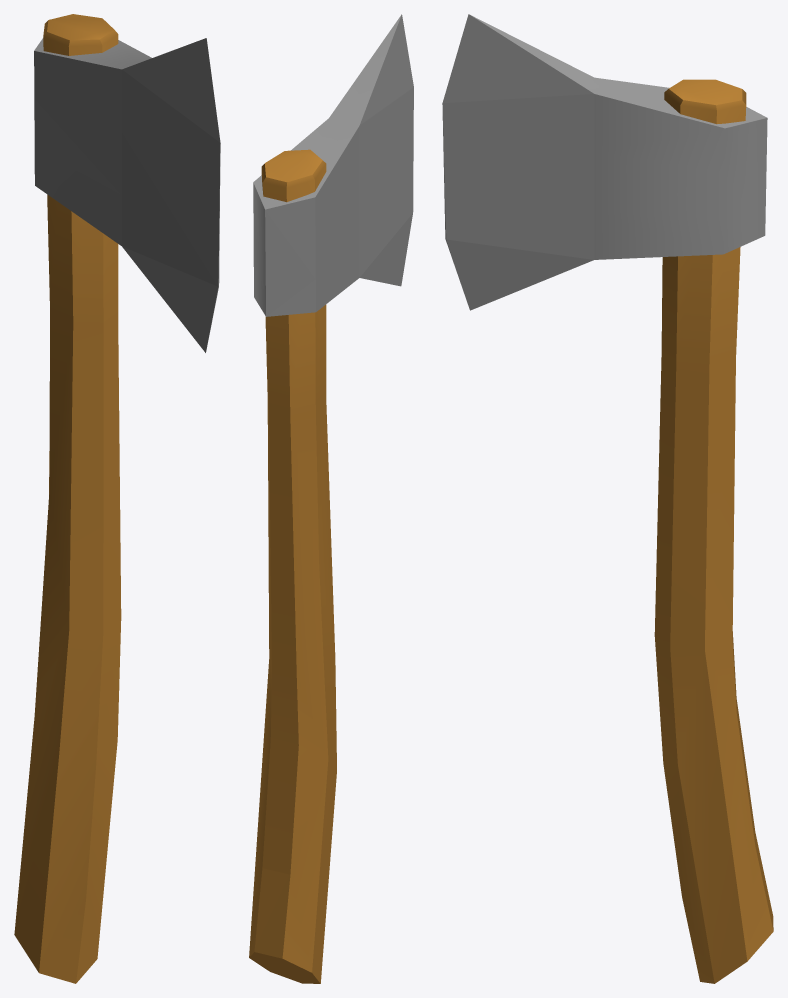
Rendered from Axe.fbx.
3 views of the same model, side by side, from view 1: azimuth 30°, elevation 25°; view 2: azimuth 150°, elevation 25°; view 3: azimuth 270°, elevation 25° (orthographic). The views are drawn at different scales.
Visible parts, largest first — view 1: Handle001, Axehead; view 2: Handle001, Axehead; view 3: Axehead, Handle001.
Part boxes in pixels (left/top/right/bottom): Handle001: left=14, top=14, right=121, bottom=983; Axehead: left=34, top=38, right=220, bottom=352; Handle001: left=249, top=149, right=336, bottom=983; Axehead: left=253, top=14, right=413, bottom=316; Axehead: left=442, top=14, right=767, bottom=310; Handle001: left=654, top=79, right=773, bottom=983.
Bounding box in the file's own units: 3847 × 14685 × 47532.
